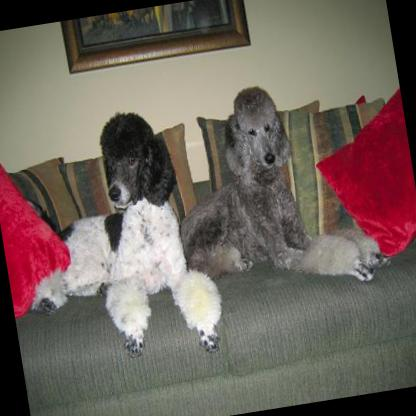standard_poodle: (0, 99, 225, 379), (158, 70, 393, 308)
